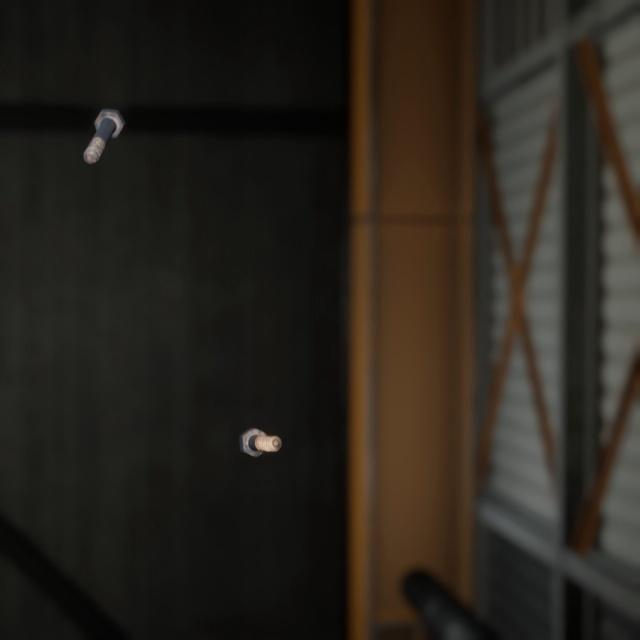bolt: (78, 92, 129, 155), (234, 402, 286, 441)
